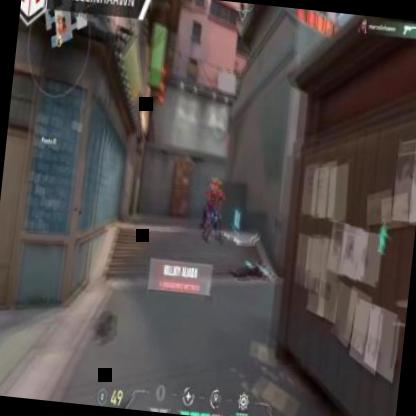enemy: (204, 178, 227, 244), (201, 174, 219, 232)
enemy_head: (215, 180, 221, 191), (210, 176, 214, 184)
